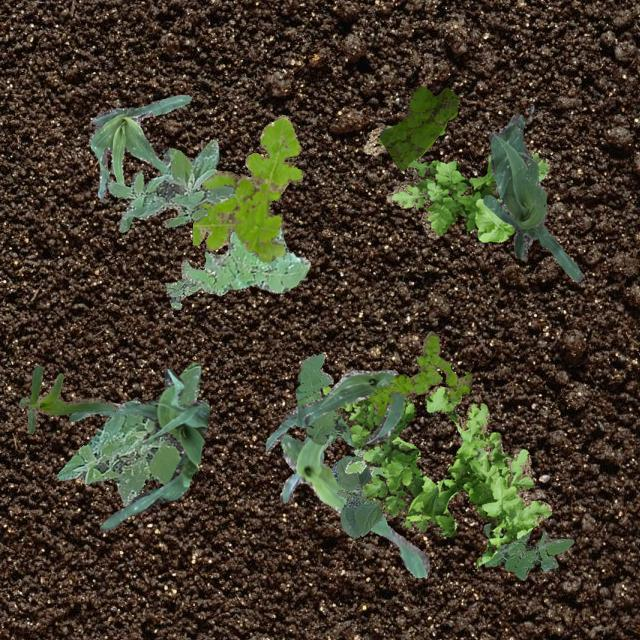crop: (68, 368, 210, 532), (280, 434, 428, 576), (482, 112, 582, 280), (264, 368, 402, 454), (88, 94, 190, 198), (18, 364, 118, 432), (332, 454, 382, 536)
weed: (318, 384, 550, 566), (362, 124, 550, 240), (56, 362, 200, 506), (192, 114, 302, 262), (106, 138, 234, 232), (366, 331, 472, 413), (184, 226, 310, 294), (378, 84, 458, 170), (295, 352, 353, 446), (482, 522, 572, 578), (164, 258, 202, 308), (304, 414, 352, 444), (343, 448, 382, 477)
